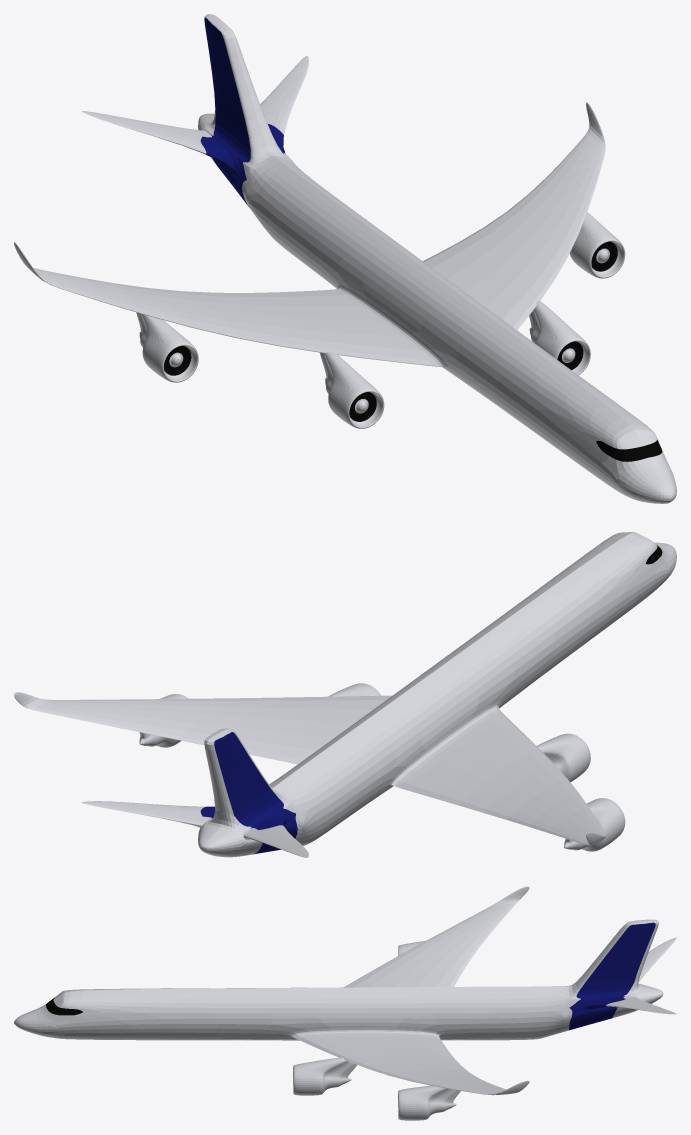
The model's file is repulo.glb.
3 renders of one model, top to bottom at view 1: azimuth 30°, elevation 25°; view 2: azimuth 150°, elevation 25°; view 3: azimuth 270°, elevation 25°, orthographic. The views are drawn at different scales.
Visible parts, largest first — view 1: Cube; view 2: Cube; view 3: Cube.
Boxes of the visible parts, x1,y1,x2,y2 form: Cube: (14,14,676,503); Cube: (14,532,676,857); Cube: (14,886,676,1120).
Size of the model in its own units: 17.09 by 5.68 by 24.6.
